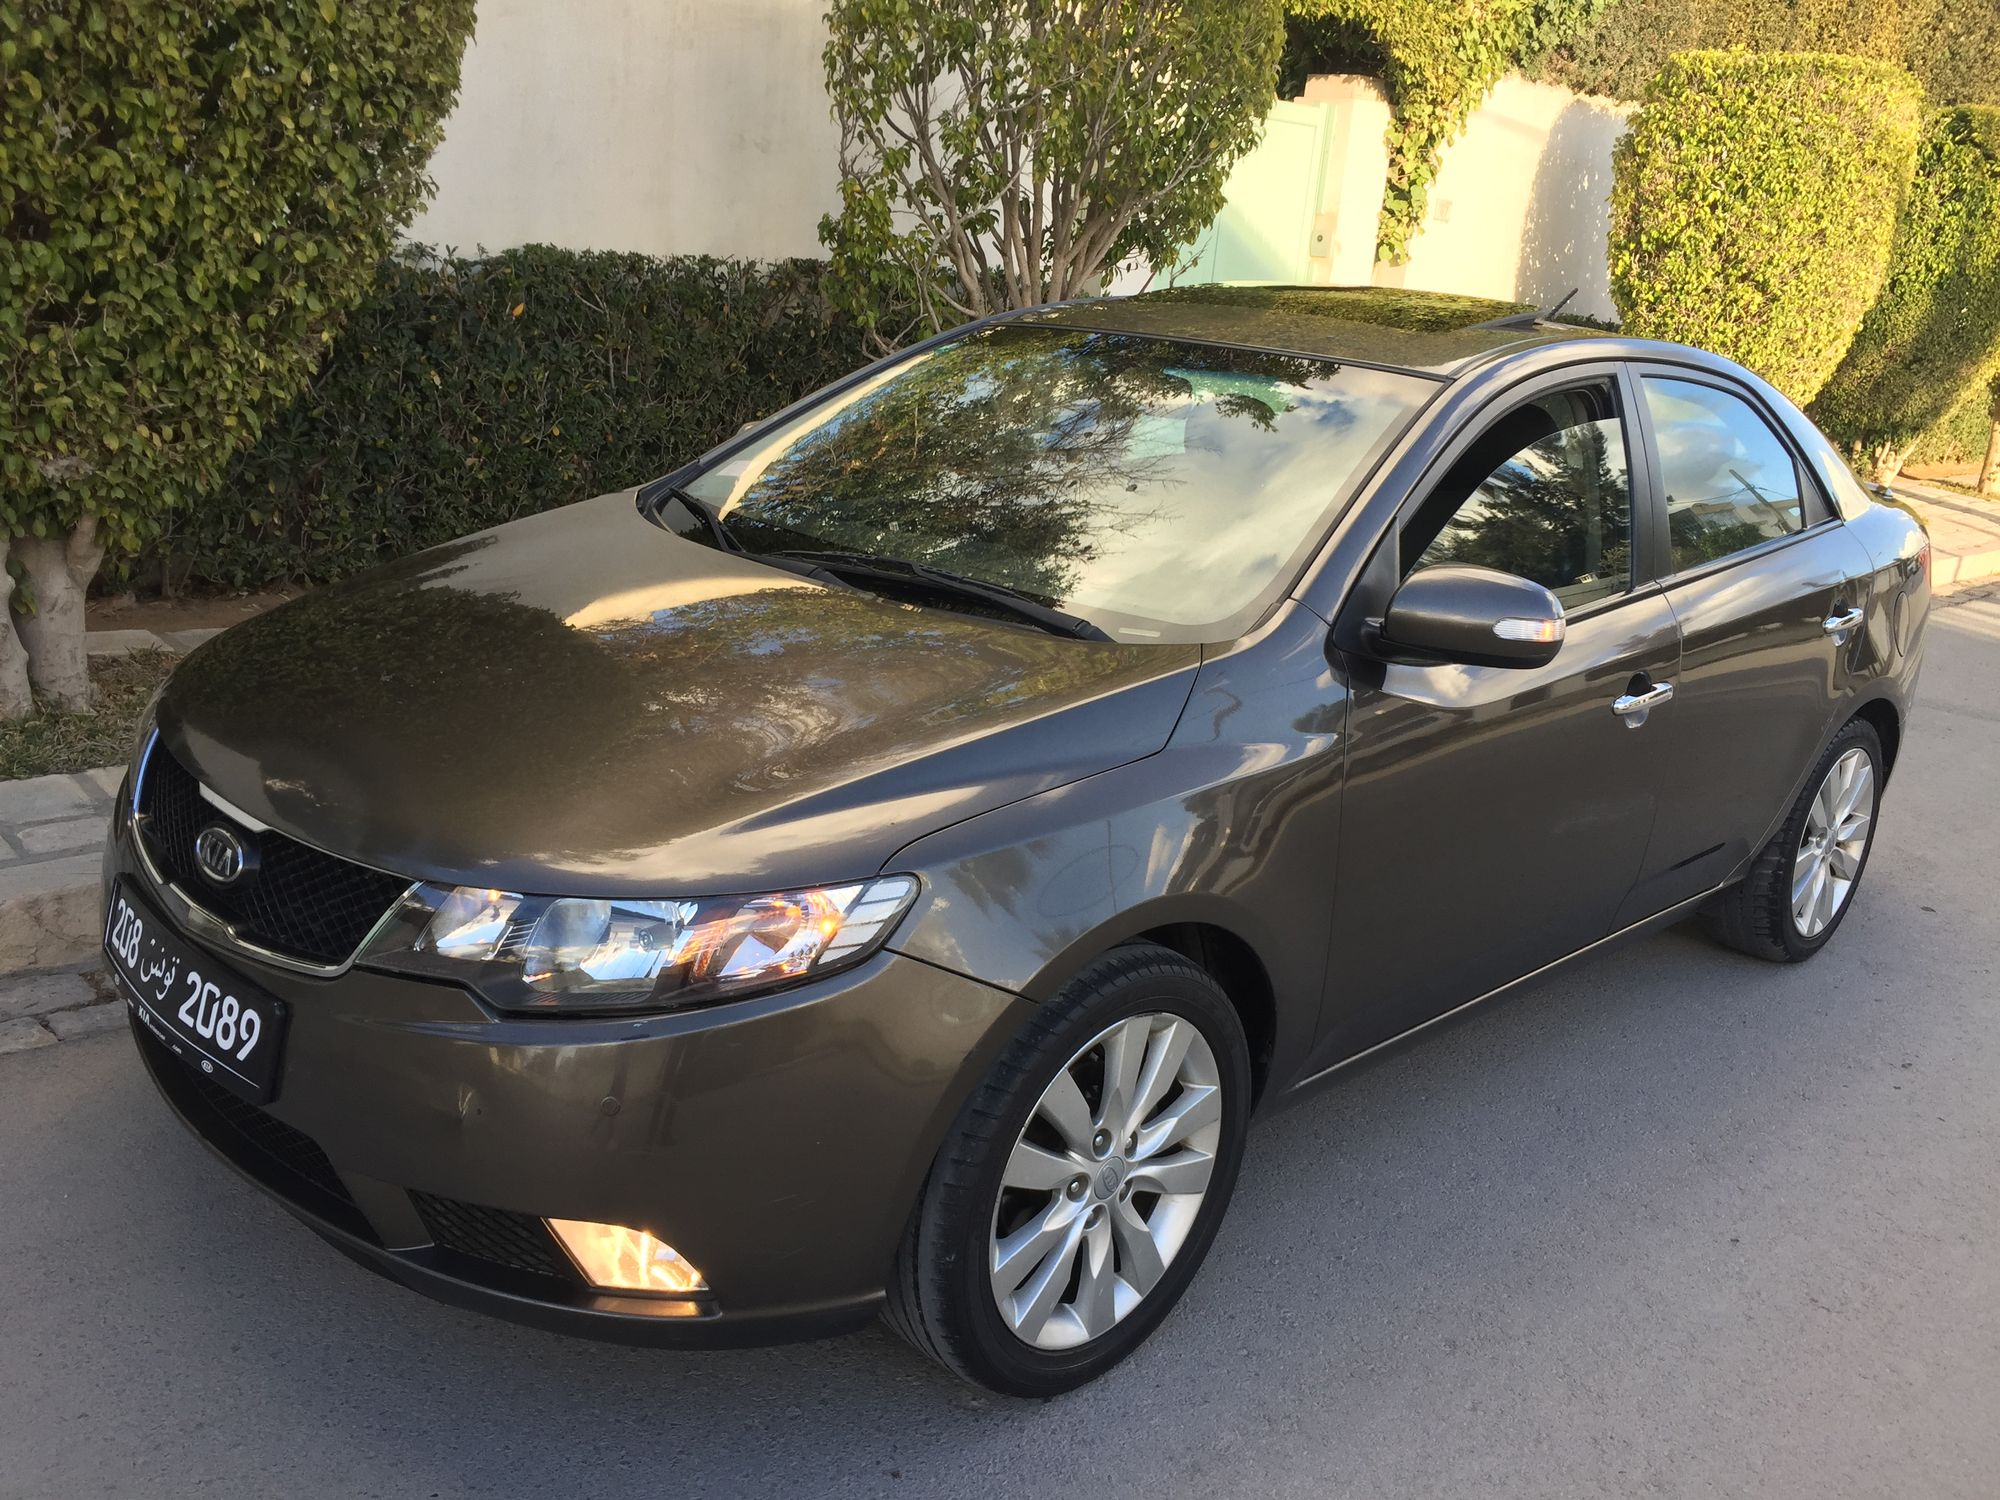LP: (105, 881, 272, 1081)
